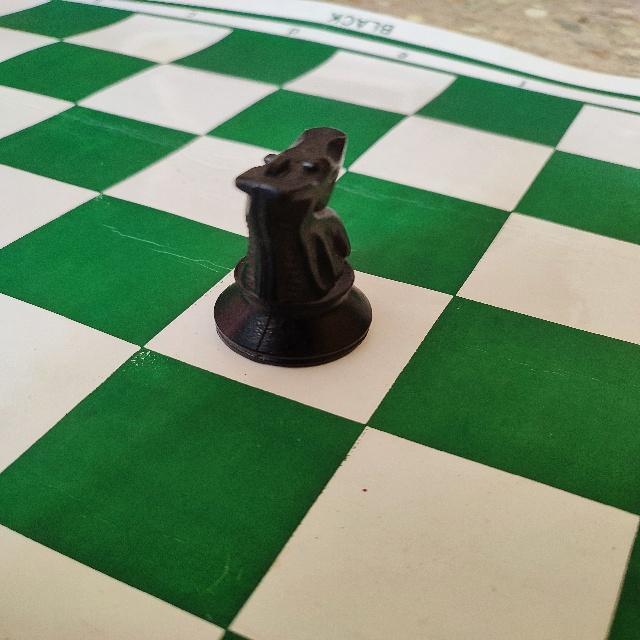Knight: (212, 128, 376, 371)
